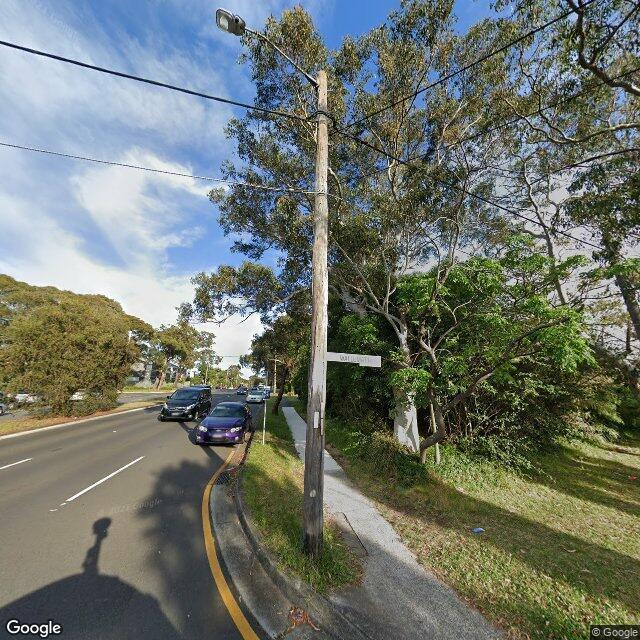streetlight: (215, 8, 320, 87), (267, 358, 283, 363)
timber-pole: (304, 70, 328, 556), (273, 354, 276, 394)
